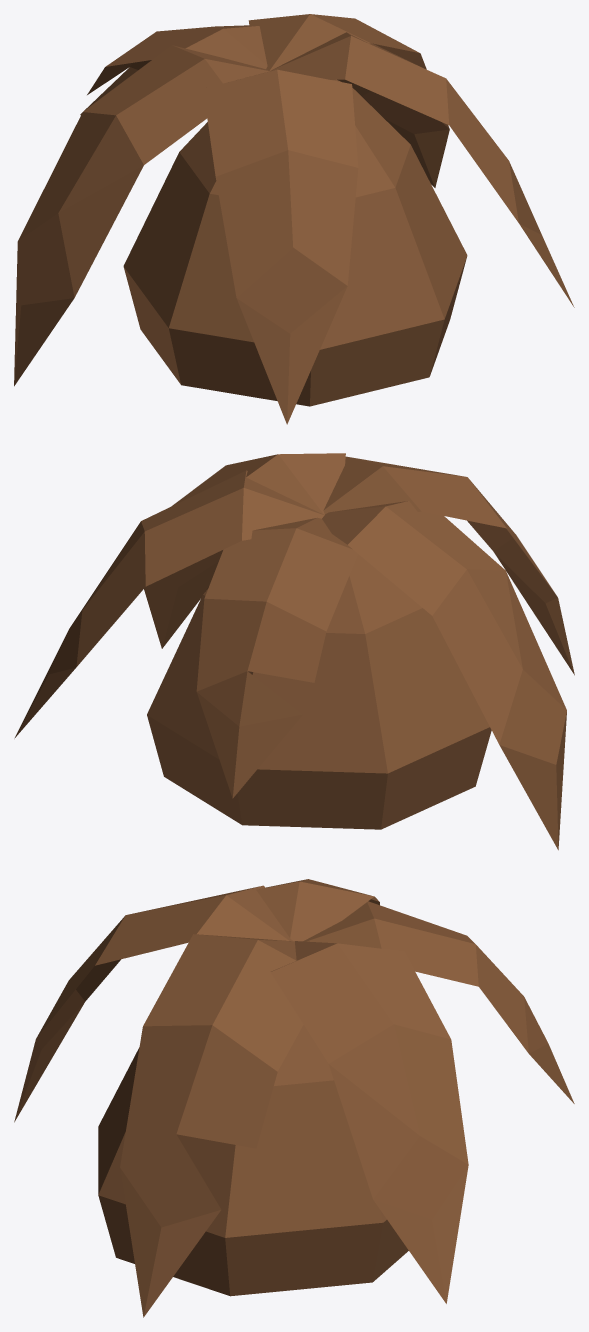
The model's file is oasis-palm-small.fbx.
The picture shows the model from 3 angles, top to bottom: view 1: azimuth 30°, elevation 25°; view 2: azimuth 150°, elevation 25°; view 3: azimuth 270°, elevation 25°; orthographic projection. The views are drawn at different scales.
Parts seen in each view (by area): view 1: oasis-palm-small; view 2: oasis-palm-small; view 3: oasis-palm-small.
Boxes of the visible parts, x1,y1,x2,y2 form: oasis-palm-small: [14, 14, 574, 424]; oasis-palm-small: [14, 453, 574, 850]; oasis-palm-small: [14, 879, 574, 1317].
Size of the model in its own units: 3.05 by 1.8 by 2.91.
